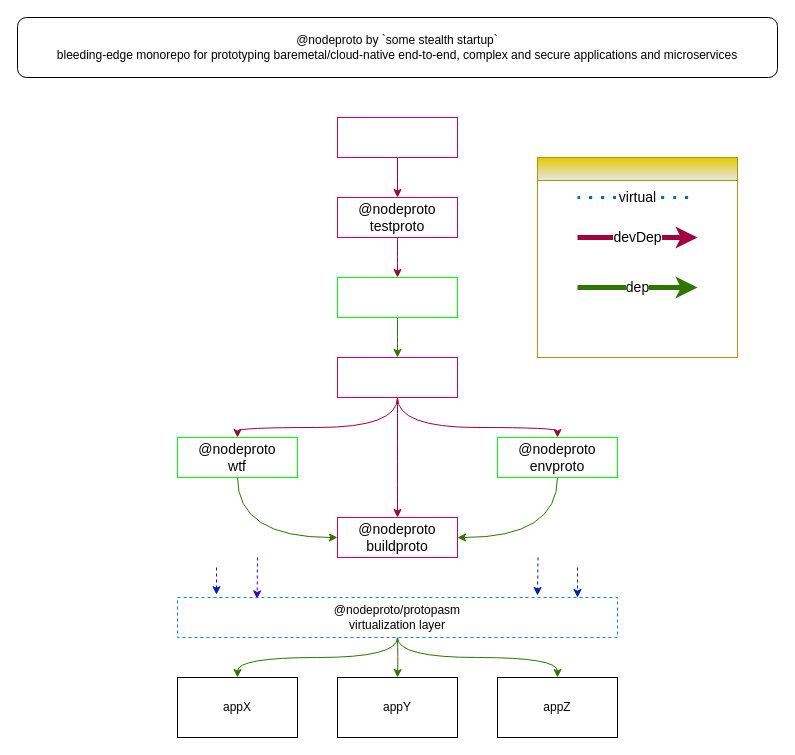
Some shapes in this 795 by 755 pixel diagram are drawn without their labels. Each missing label, with the box of its shape:
@nodeproto configproto: (336, 116, 458, 158)
@nodeproto jsync: (336, 356, 458, 398)
@nodeproto shared: (336, 276, 458, 318)
LEGEND: (536, 156, 738, 358)
